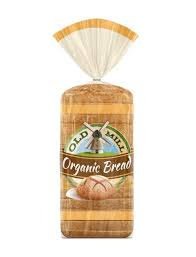bread: (55, 22, 142, 241)
